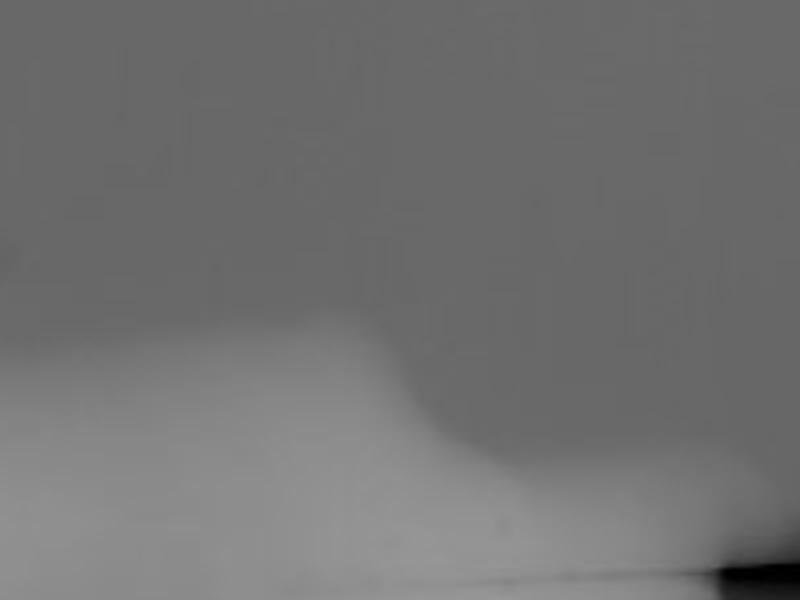defect: (712, 559, 794, 597)
